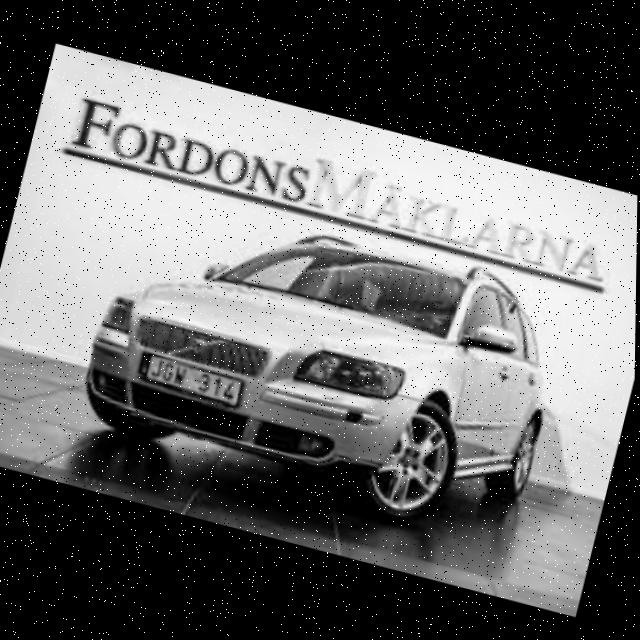license-plates: (140, 353, 242, 405)
